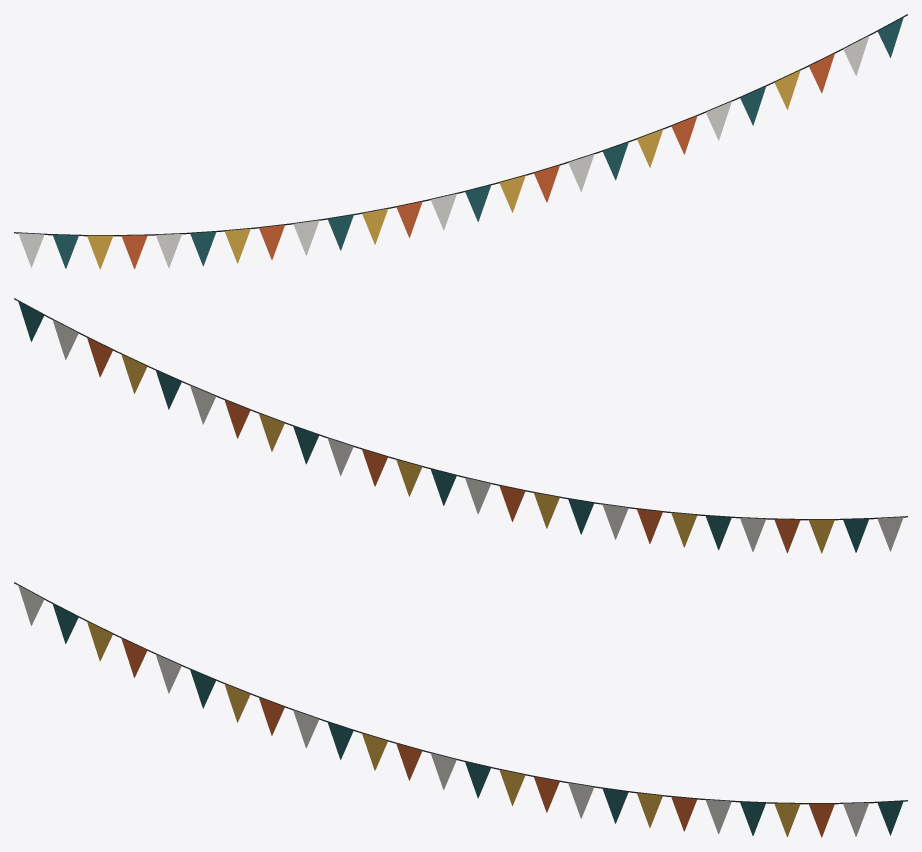
File: Town_Bunting.fbx
The picture shows the model from 3 angles, top to bottom: view 1: azimuth 30°, elevation 25°; view 2: azimuth 150°, elevation 25°; view 3: azimuth 330°, elevation 25°; orthographic projection.
Parts seen in each view (by area): view 1: Decor_, Decor; view 2: Decor_, Decor; view 3: Decor_, Decor.
Part boxes in pixels (box(x1,y1,x2,y2)): Decor_: box(18, 17, 903, 269); Decor: box(14, 14, 907, 236); Decor_: box(18, 301, 903, 553); Decor: box(14, 298, 907, 520); Decor_: box(18, 585, 903, 837); Decor: box(14, 582, 907, 804).
Size of the model in its own units: 68.03 by 7.49 by 0.0866.
